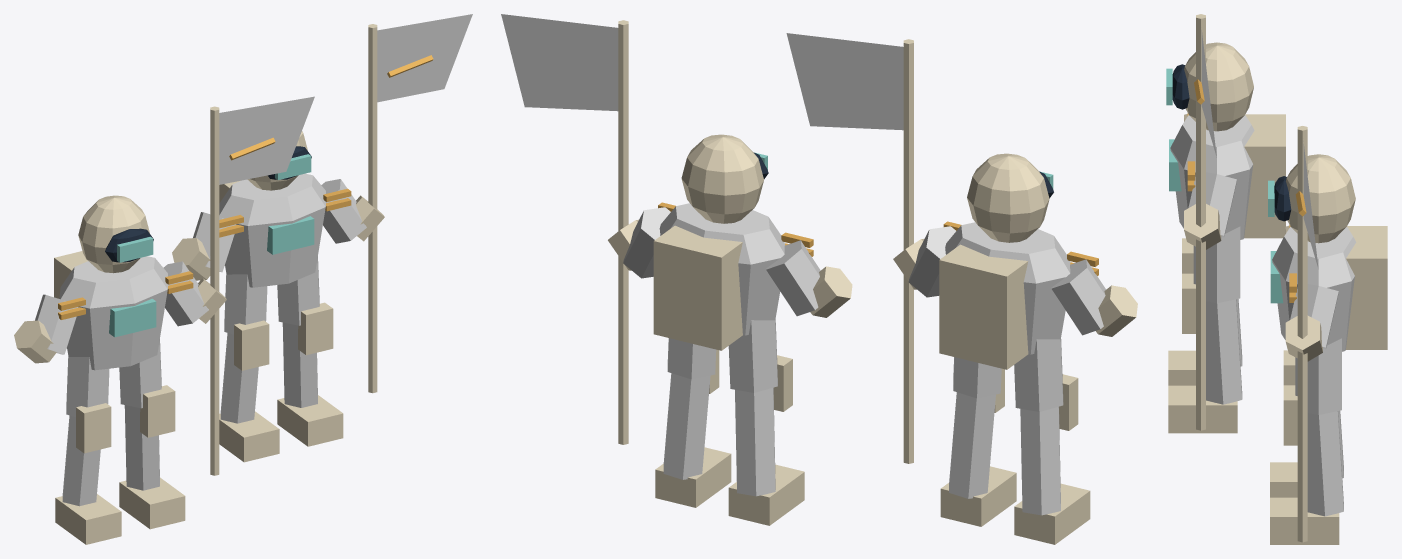
The model's file is space_knight_l2_active.glb.
The picture shows the model from 3 angles, left to right: view 1: azimuth 30°, elevation 25°; view 2: azimuth 150°, elevation 25°; view 3: azimuth 270°, elevation 25°; orthographic projection. The views are drawn at different scales.
Parts seen in each view (by area): view 1: WoodBody, FixedDetails, BrassTrim; view 2: WoodBody, FixedDetails, BrassTrim; view 3: FixedDetails, WoodBody, BrassTrim.
Boxes of the visible parts, left/top/right/bottom form: WoodBody: left=35, top=14, right=472, bottom=506; FixedDetails: left=14, top=131, right=384, bottom=544; BrassTrim: left=58, top=24, right=433, bottom=475; WoodBody: left=501, top=14, right=1105, bottom=515; FixedDetails: left=608, top=134, right=1137, bottom=544; BrassTrim: left=618, top=20, right=1098, bottom=463; FixedDetails: left=1166, top=42, right=1387, bottom=544; WoodBody: left=1170, top=30, right=1356, bottom=516; BrassTrim: left=1187, top=14, right=1307, bottom=542.
Size of the model in its own units: 0.6455 by 0.4782 by 0.2175.
